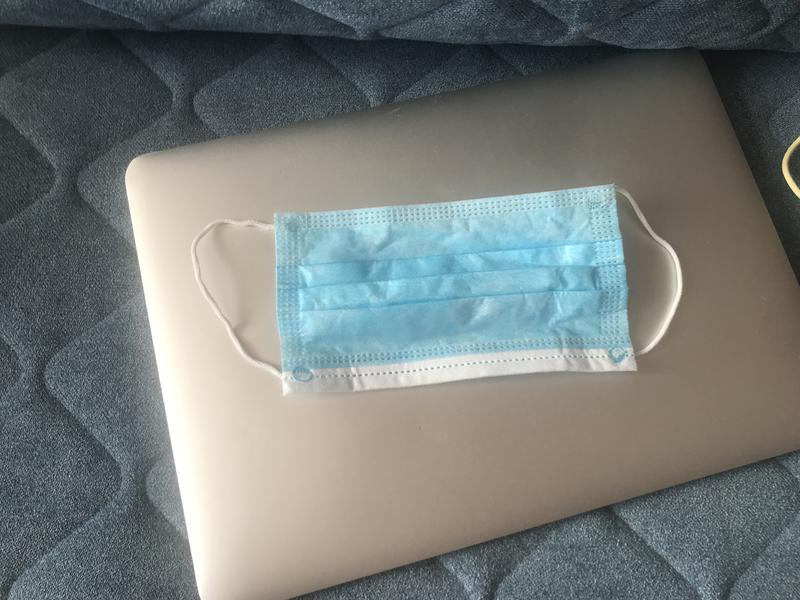medical_mask: (191, 184, 682, 397)
